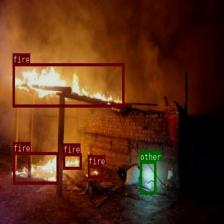fire: (12, 62, 124, 106), (13, 152, 58, 183), (63, 153, 81, 169), (88, 165, 102, 178)
